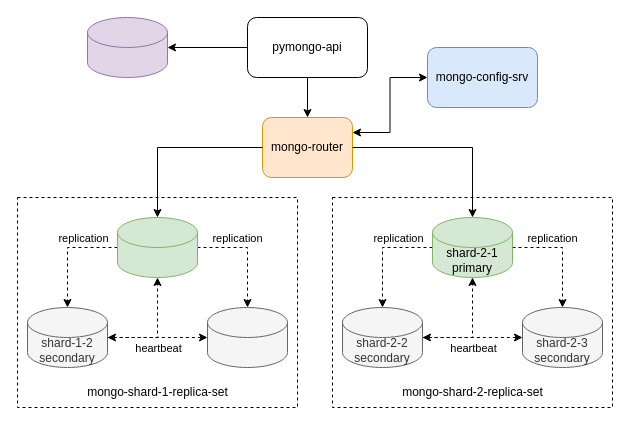
Image size: 630x425. Some labels were removed from this diagram. Each missing label, with the centre of its shape:
redis: the point at 127,47
shard-1-1 primary: the point at 157,247
shard-1-3 secondary: the point at 247,337
